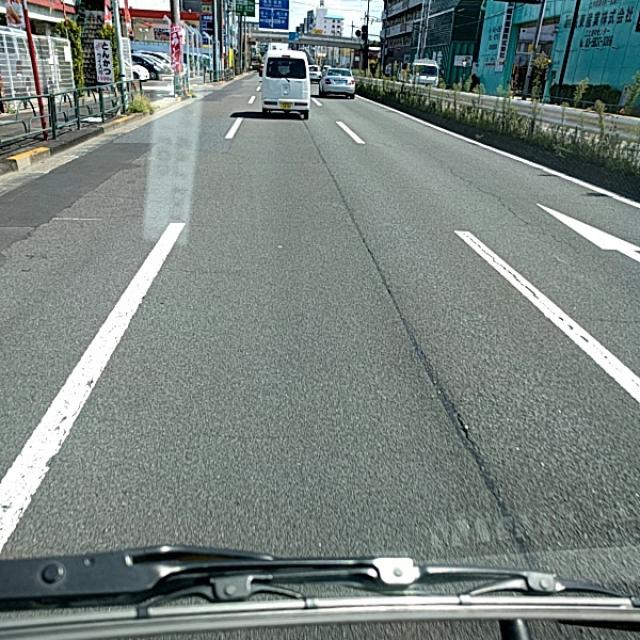pothole: (372, 334, 462, 453)
